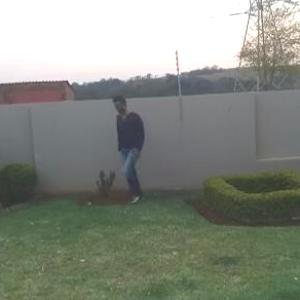follow: (116, 94, 149, 202)
